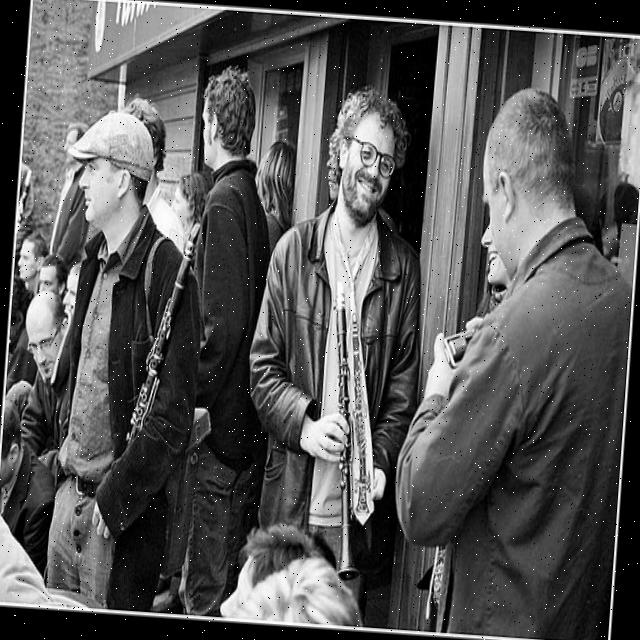clarinet: (306, 273, 396, 586), (120, 214, 202, 471)
